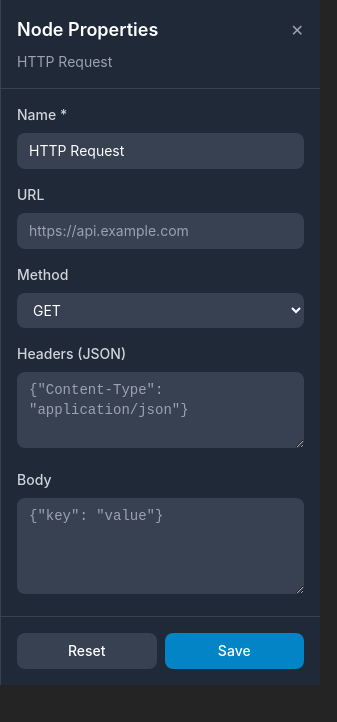
Test: PropertyPanel › Validation › should validate URL format for HTTP action
Type "not-a-valid-url" into the field labelled "URL" at (160, 231), box x1=17 y1=213 x2=304 y2=249
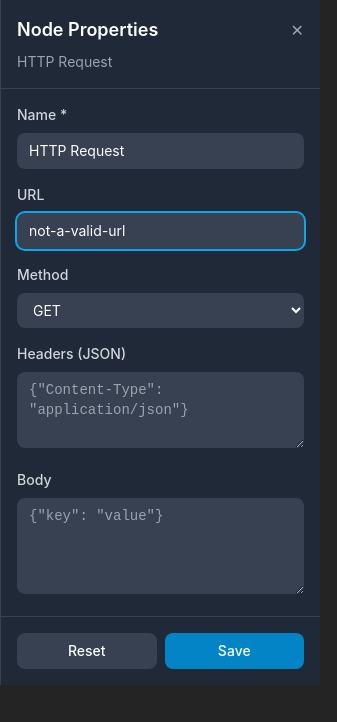
Click the button "Save" at (234, 651), box x1=164 y1=633 x2=304 y2=669
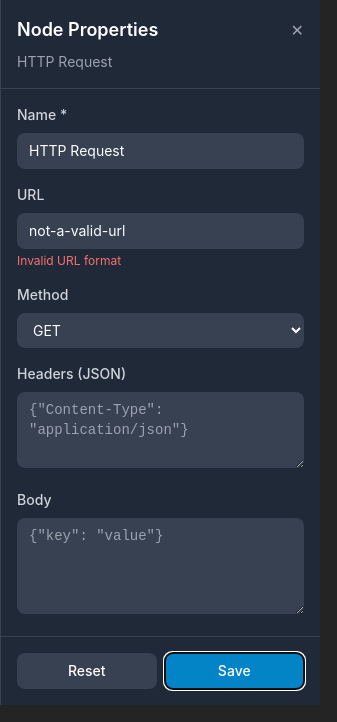
Expected: the text "Invalid URL format" is shown, x1=17 y1=253 x2=121 y2=268
